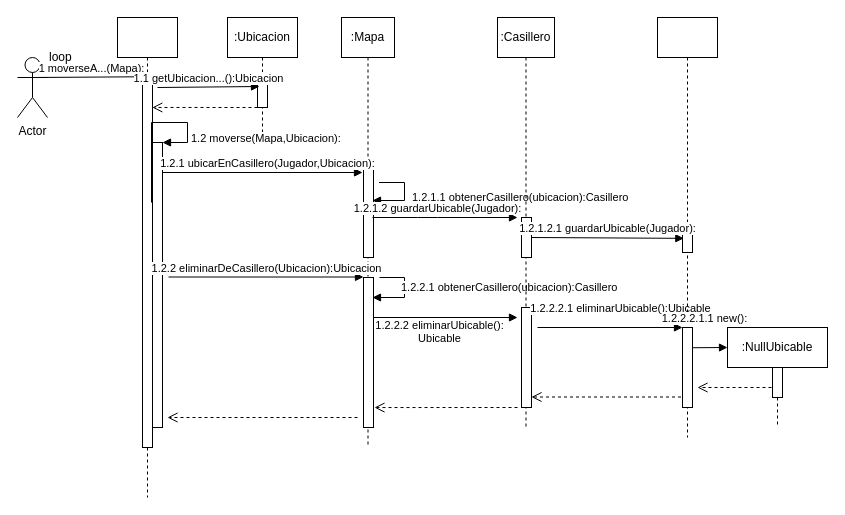
This 845x515 diagram has some shape labels left out. The shapes that lost their labels are listed below. From the top down, each one's box as (x1, y1, x2, y2) in pixels, then its label:
(656, 16, 718, 438): :Ubicable
(116, 16, 178, 498): :Jugador
